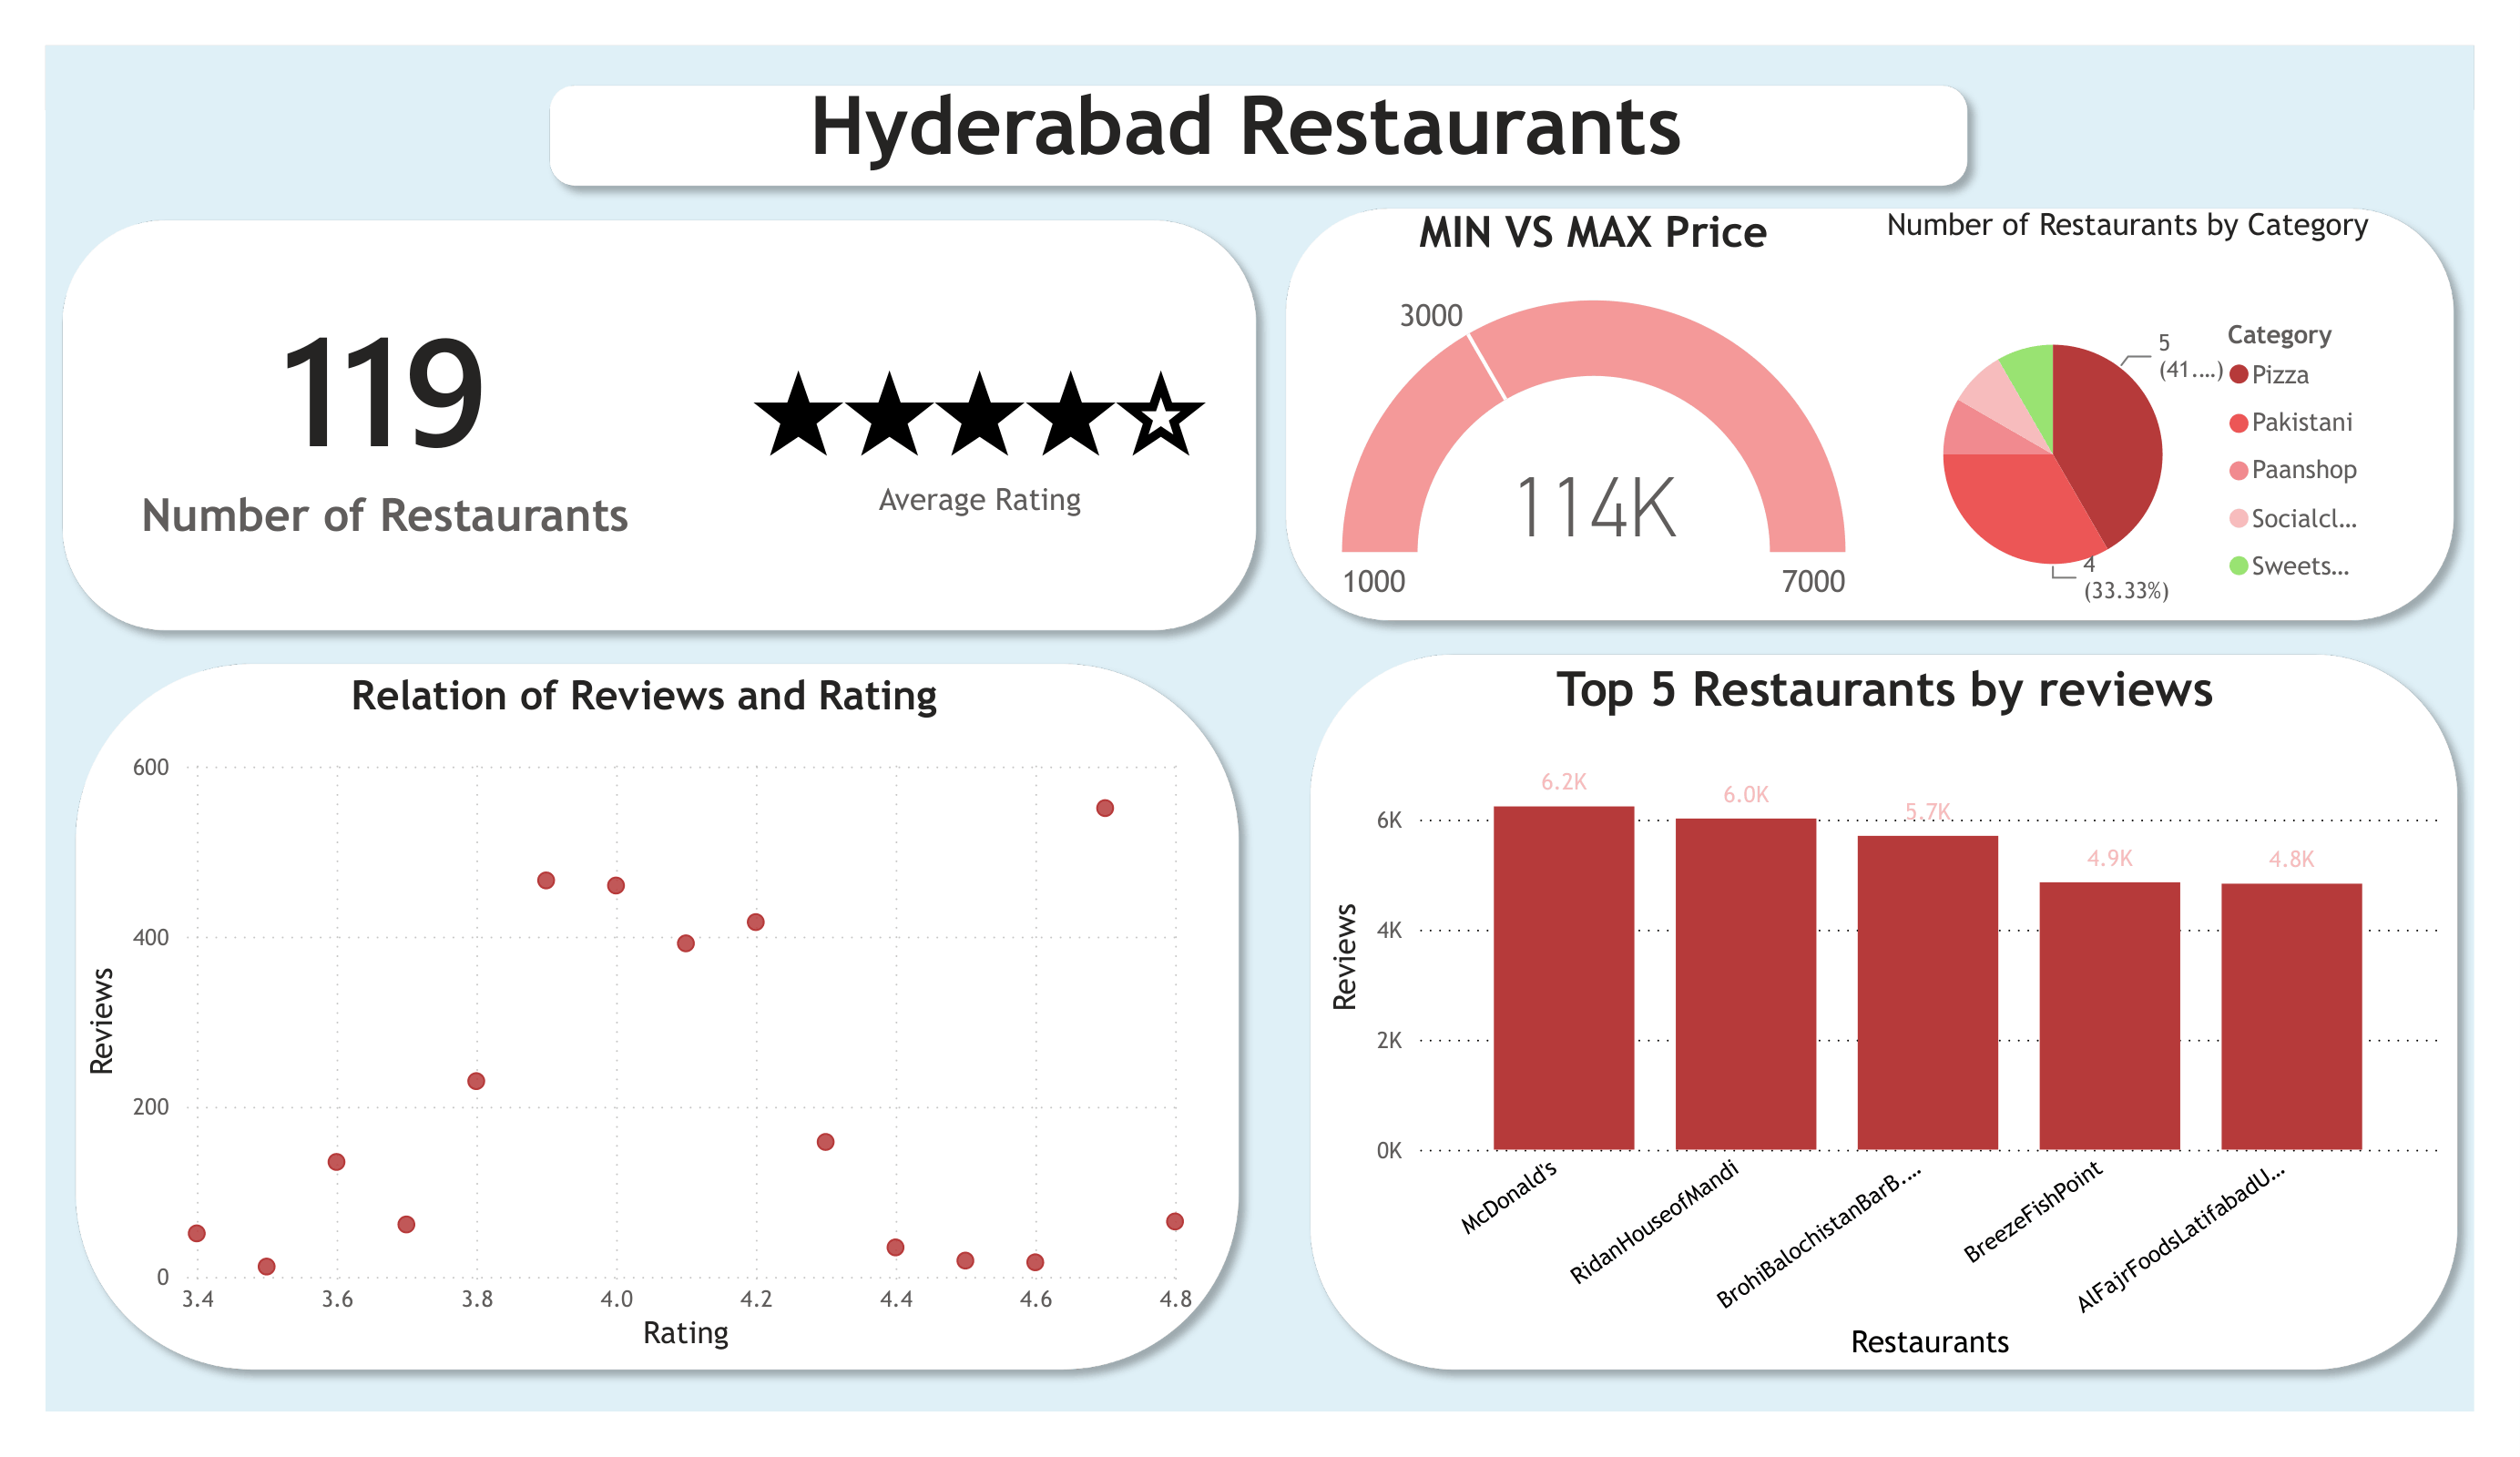

This screenshot's page, from the dashboard's own definition file:
{"tool":"powerbi","page":{"name":"Page 1","canvas":[1280,720],"ordinal":0},"visuals":[{"type":"shape","box":[256.7,11.7,765,71.7],"z":0},{"type":"shape","box":[0,83.3,646.7,233.3],"z":1000},{"type":"shape","box":[645,76.7,633.3,235],"z":2000},{"type":"shape","box":[6.7,316.7,631.7,390],"z":3000},{"type":"shape","box":[658.3,311.7,621.7,395],"z":4000},{"type":"textbox","box":[0,11.7,1278.3,68.3],"z":5000},{"type":"pieChart","fields":{"Category":["Sheet2.Category"],"Y":["CountNonNull(Sheet2.Category)"]},"box":[961.3,84.8,272.4,231.3],"z":6000},{"type":"cardVisual","title":"Number of Restaurants ","fields":{"Data":["CountNonNull(Sheet2.Restaurant_Name)"]},"box":[6,76,346.3,234.7],"z":7000},{"type":"cardVisual","title":"Average Rating ","fields":{"Data":["Sheet2.Median of Rating star rating 5"]},"box":[341.2,83.8,303.8,233.8],"z":8000},{"type":"gauge","title":"MIN VS MAX Price","fields":{"Y":["Sum(Sheet2.Max Price)"],"MinValue":["Median(Sheet2.Min Price)"],"MaxValue":["Max(Sheet2.Max Price)"],"TargetValue":["Median(Sheet2.Max Price)"]},"box":[645.1,84.8,341.8,215.9],"z":9000},{"type":"scatterChart","title":"Relation of Reviews and Rating","fields":{"X":["Sheet2.Rating"],"Y":["Median(Sheet2.Reviews)"]},"box":[16.7,330.3,597.6,362.4],"z":10000},{"type":"columnChart","title":"Top 5 Restaurants by reviews","fields":{"Y":["Max(Sheet2.Reviews)"],"Category":["Sheet2.Restaurant_Name"]},"box":[668.3,318.7,595,374],"z":11000}]}

Visuals, with their boxes on the page's 1280x720 design canvas (x1, y1, x2, y2). These are canvas units, not pixel positions in the 2520x1457 screenshot, which may show the page scaled, cropped or inside an application window:
shape: x1=257, y1=12, x2=1022, y2=83
shape: x1=0, y1=83, x2=647, y2=317
shape: x1=645, y1=77, x2=1278, y2=312
shape: x1=7, y1=317, x2=638, y2=707
shape: x1=658, y1=312, x2=1280, y2=707
textbox: x1=0, y1=12, x2=1278, y2=80
pieChart - Sheet2.Category x CountNonNull(Sheet2.Category): x1=961, y1=85, x2=1234, y2=316
"Number of Restaurants " cardVisual: x1=6, y1=76, x2=352, y2=311
"Average Rating " cardVisual: x1=341, y1=84, x2=645, y2=318
"MIN VS MAX Price" gauge: x1=645, y1=85, x2=987, y2=301
"Relation of Reviews and Rating" scatterChart: x1=17, y1=330, x2=614, y2=693
"Top 5 Restaurants by reviews" columnChart: x1=668, y1=319, x2=1263, y2=693
